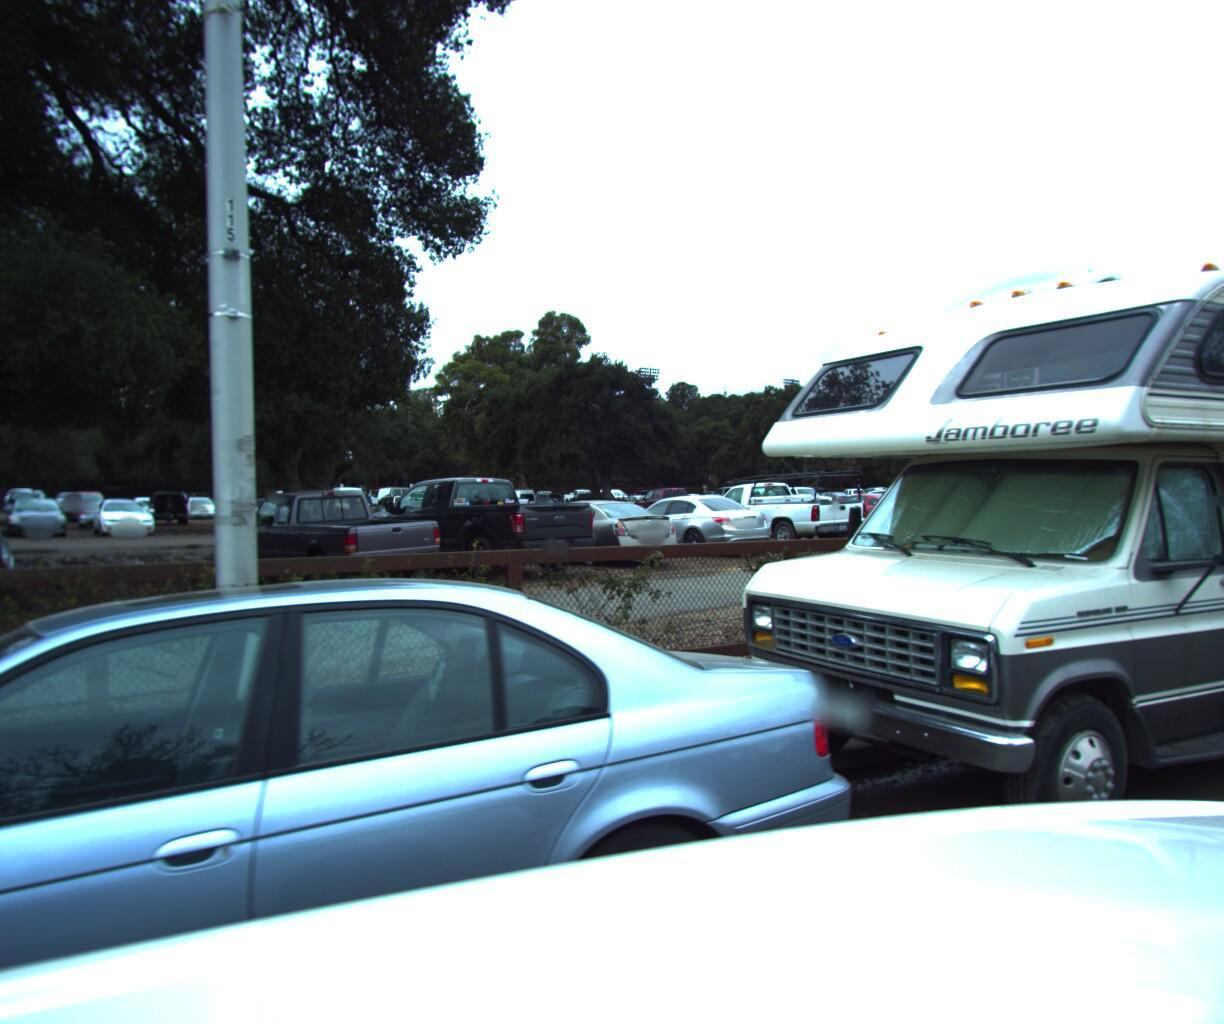car: (0, 532, 913, 1024), (207, 482, 455, 599), (360, 465, 606, 581)
other_vehicle: (666, 71, 1224, 922)
